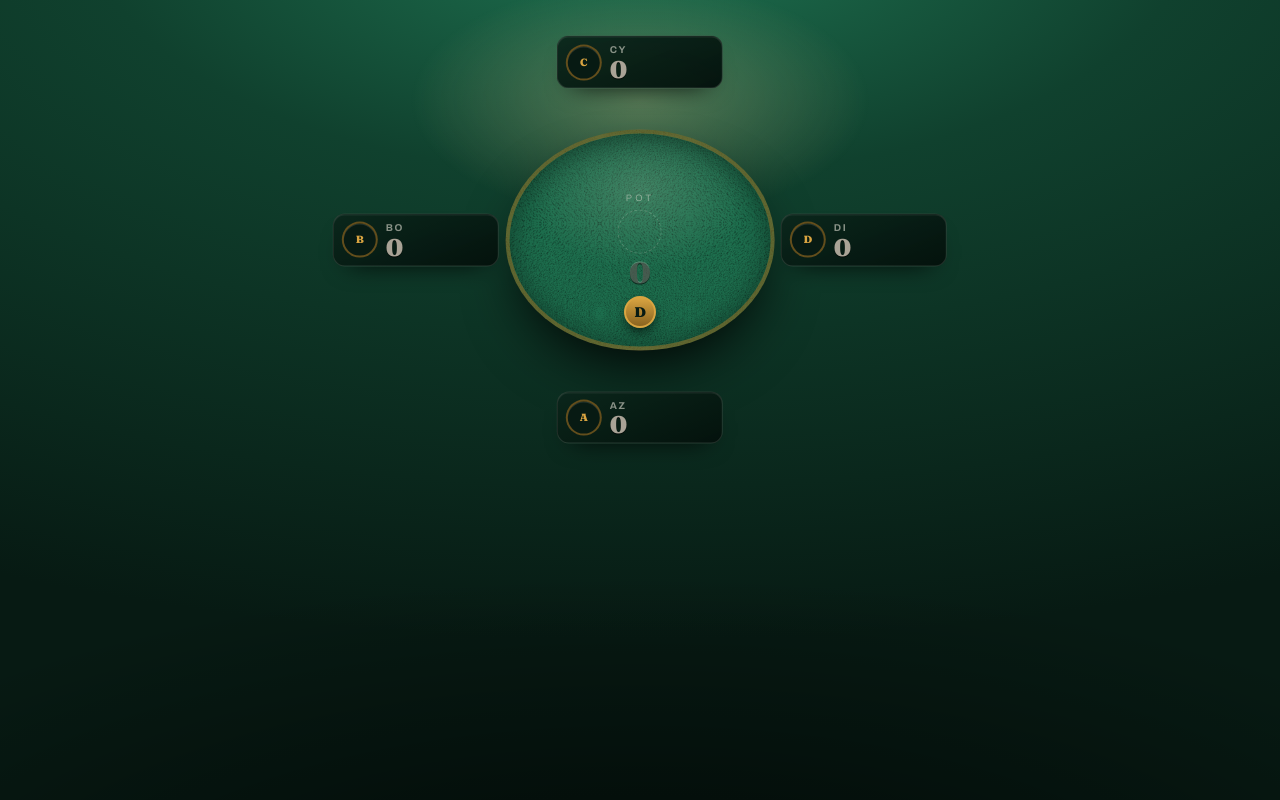
Test: ploegkiezer › sluit de lijst van de ene zetel wanneer een andere opengaat
Click the button "A": {"x": 584, "y": 418} [566, 400, 602, 436]
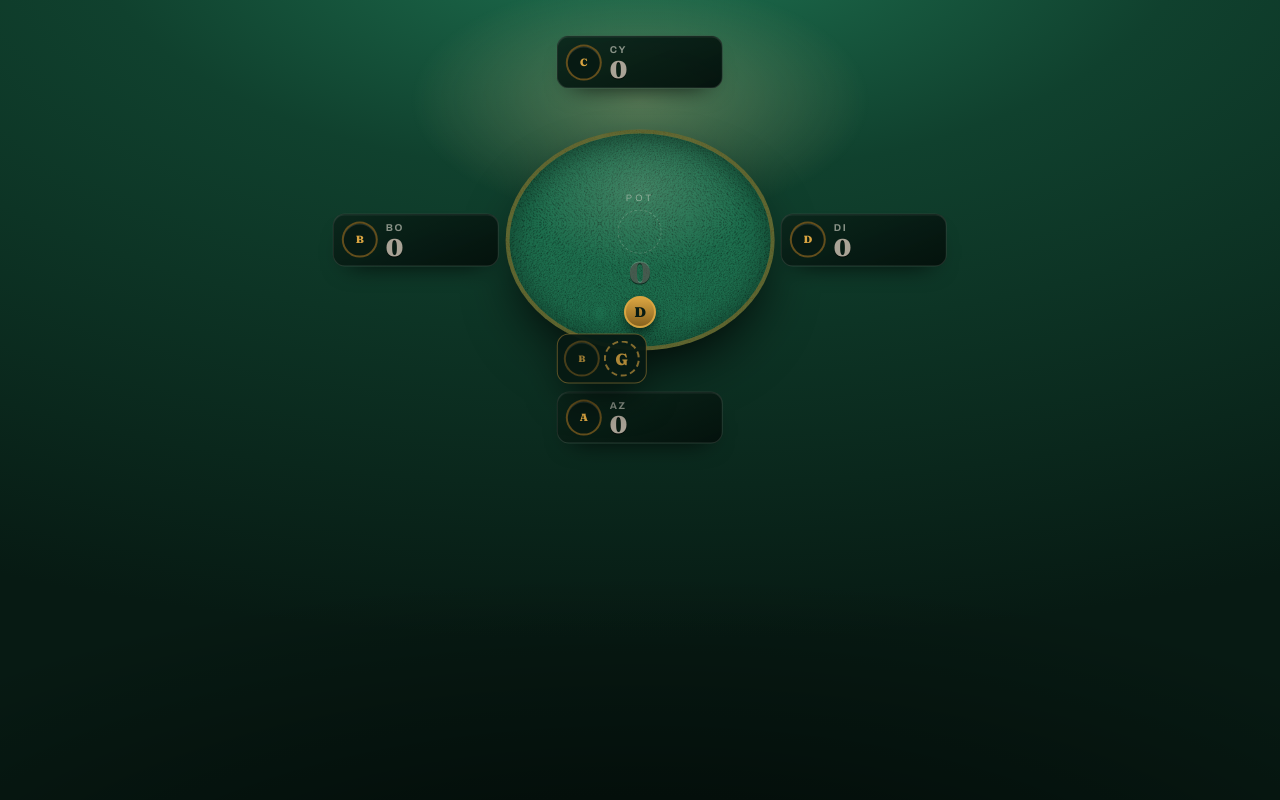
Press the mouse on the button "C": {"x": 584, "y": 62} [566, 44, 602, 80]
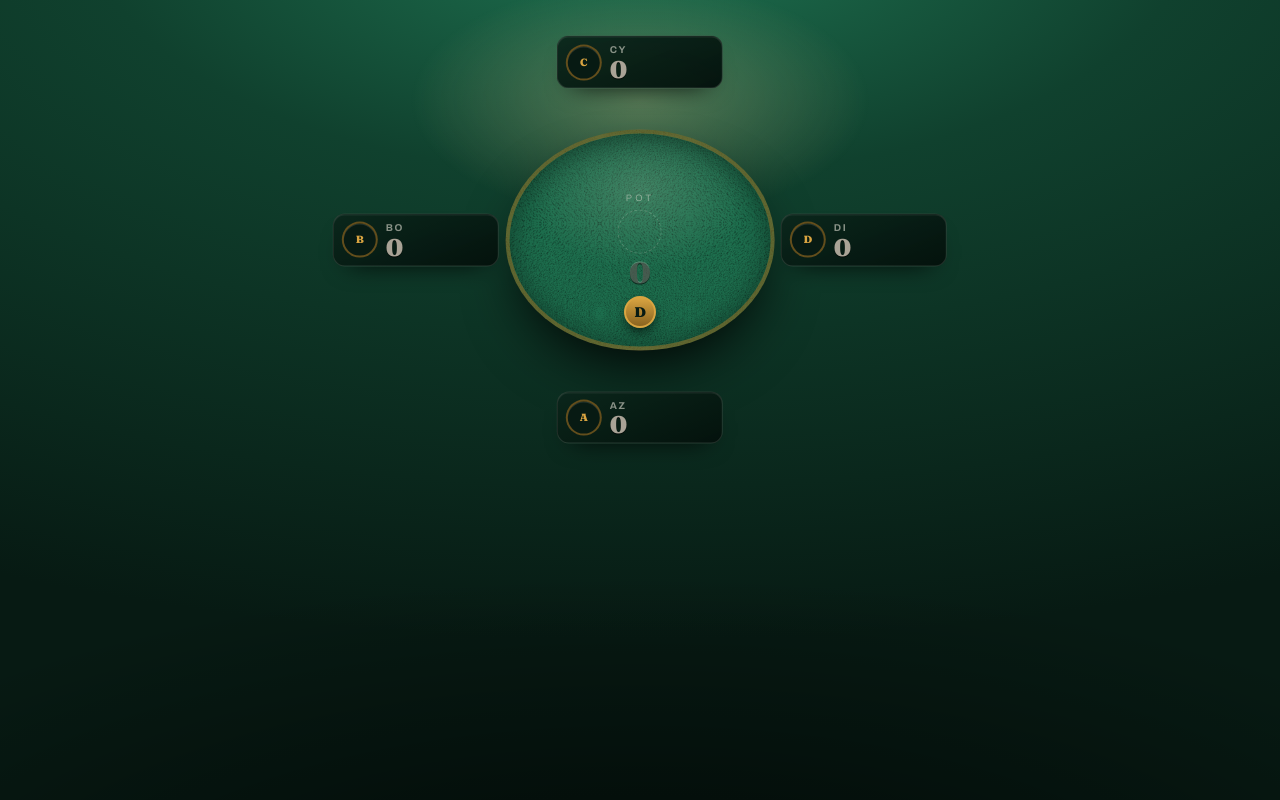
Click the button "C": {"x": 584, "y": 62} [566, 44, 602, 80]
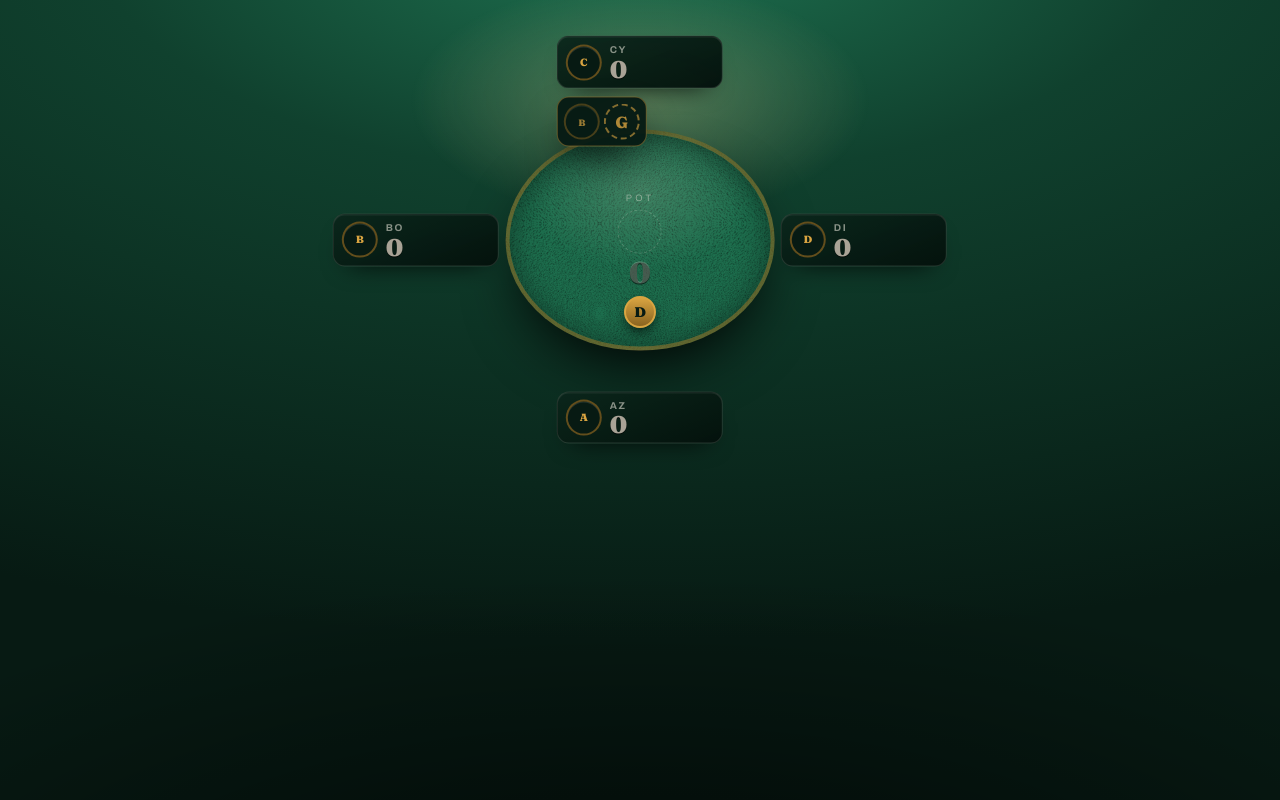
Now the element with class "animatie-open" is shown, box [557, 97, 647, 147]
